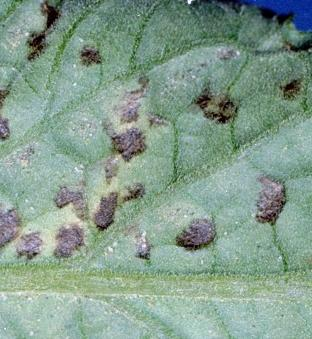Tomato leaf bacterial spot: (0, 7, 312, 339)
